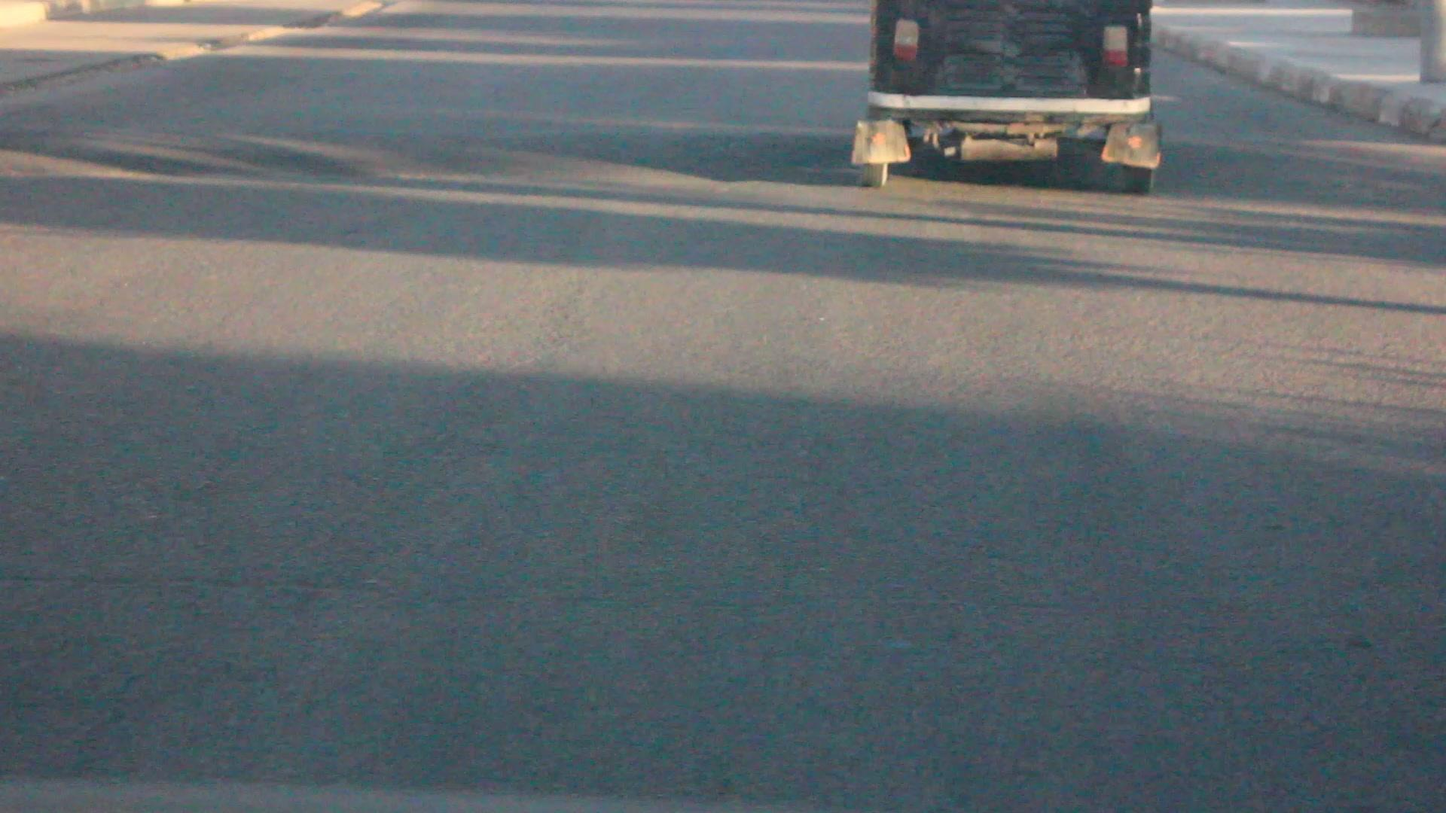Bump: (0, 119, 1445, 200)
